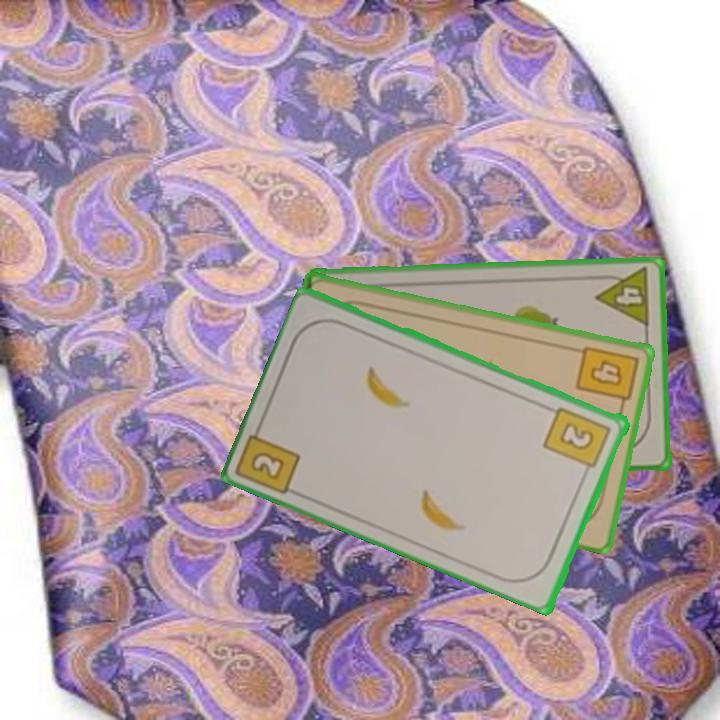2b: (541, 403, 614, 479), (236, 417, 304, 497)
4b: (572, 342, 641, 413)
4p: (592, 264, 653, 329)
